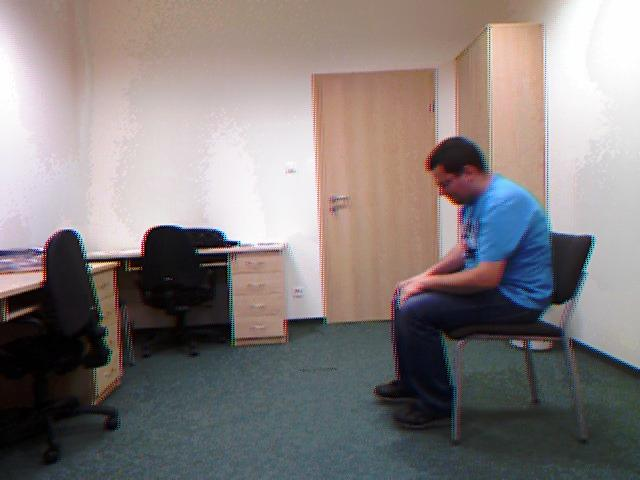sitting: (375, 136, 552, 429)
